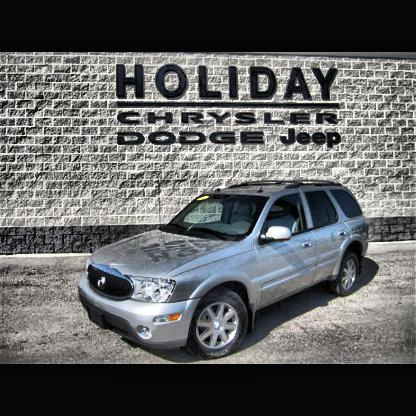Buick Rainier SUV 2007: (80, 179, 371, 361)
